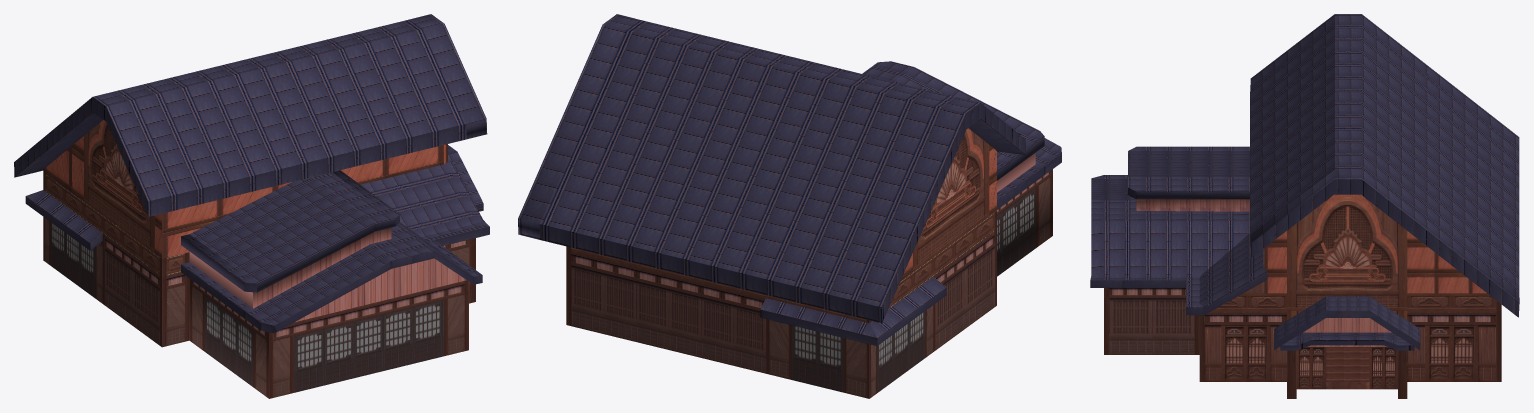
File: Fachada.obj
3 views of the same model, side by side, from view 1: azimuth 30°, elevation 25°; view 2: azimuth 150°, elevation 25°; view 3: azimuth 270°, elevation 25° (orthographic). The views are drawn at different scales.
Parts seen in each view (by area): view 1: Cube.115_Cube.058, Cube.002_Cube.006; view 2: Cube.115_Cube.058; view 3: Cube.115_Cube.058, Cube_Cube.002, Cube.002_Cube.006.
Boxes of the visible parts, left/top/right/bottom form: Cube.115_Cube.058: left=14, top=14, right=489, bottom=398; Cube.002_Cube.006: left=448, top=145, right=483, bottom=211; Cube.115_Cube.058: left=518, top=14, right=1061, bottom=398; Cube.115_Cube.058: left=1090, top=14, right=1519, bottom=381; Cube_Cube.002: left=1280, top=194, right=1414, bottom=398; Cube.002_Cube.006: left=1274, top=296, right=1420, bottom=350.
Size of the model in its own units: 42.82 by 25.92 by 45.76.
14 materials, 13 textured.
